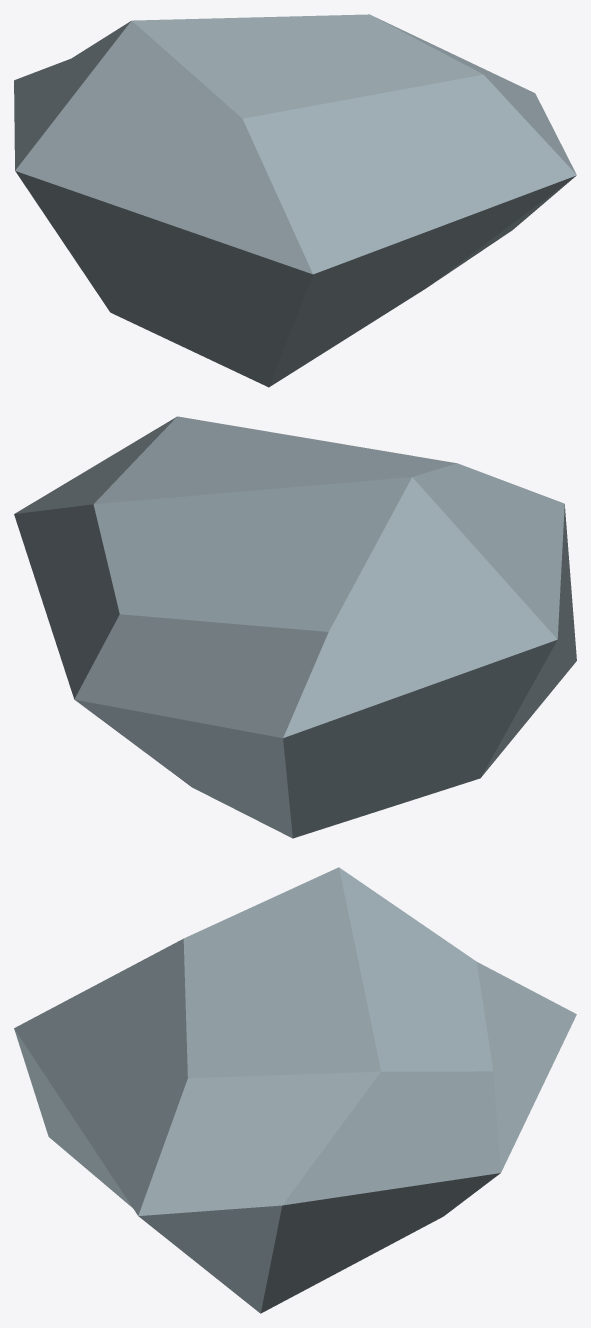
File: Stein2.fbx
3 views of the same model, one above another, from view 1: azimuth 30°, elevation 25°; view 2: azimuth 150°, elevation 25°; view 3: azimuth 270°, elevation 25° (orthographic). The views are drawn at different scales.
Parts seen in each view (by area): view 1: Stein2; view 2: Stein2; view 3: Stein2.
Boxes of the visible parts, x1,y1,x2,y2 form: Stein2: (14, 14, 576, 387); Stein2: (14, 416, 576, 838); Stein2: (14, 867, 576, 1313).
Size of the model in its own units: 1.86 by 0.9653 by 1.77.
